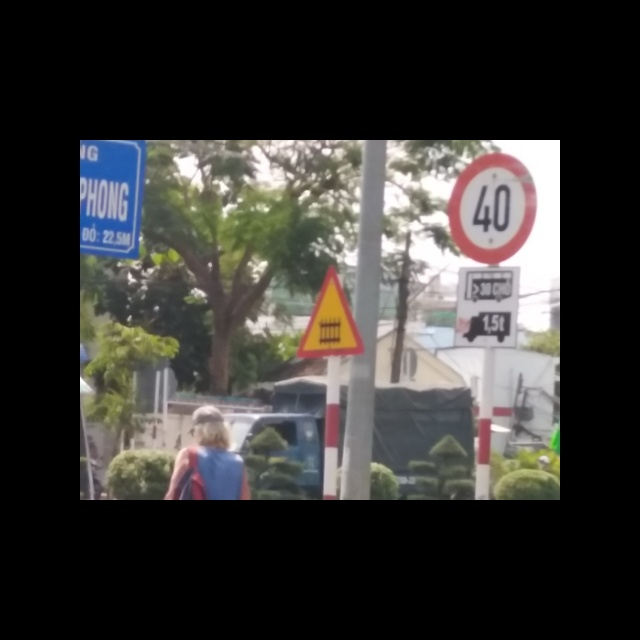Giao nhau với đường sắt có rào chắn: (298, 262, 368, 356)
Tốc độ tối đa cho phép 40km/h: (446, 157, 537, 265)
